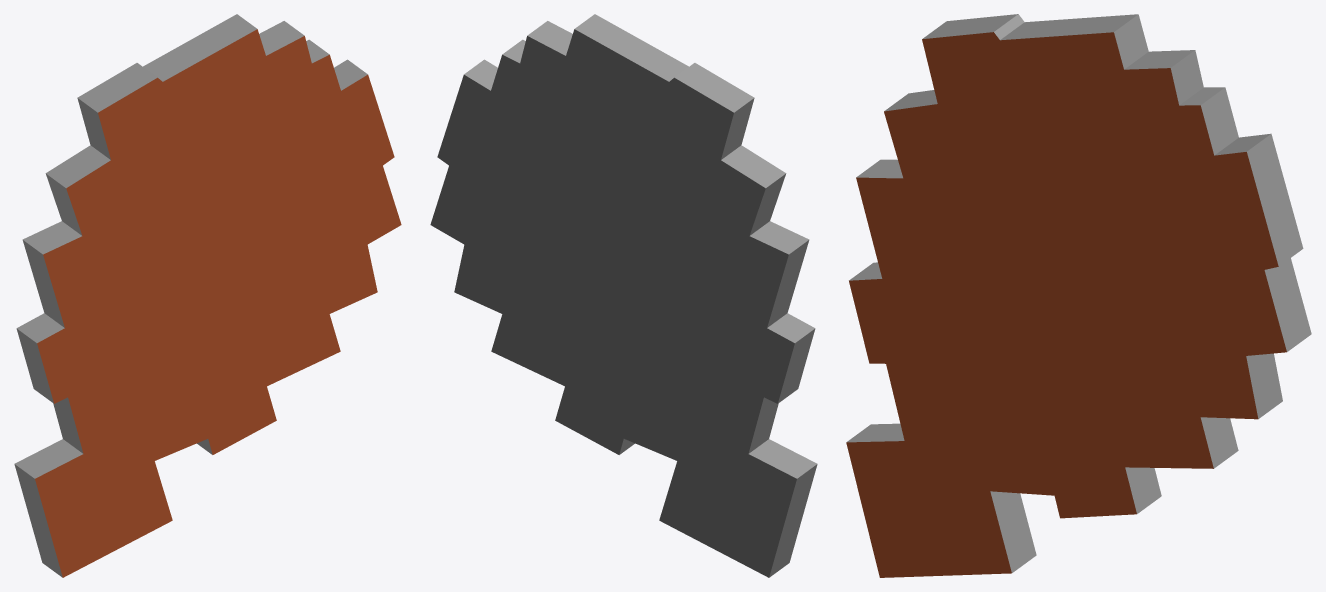
Rendered from construction_3209_assumed_A_Casa_h6m.obj.
The picture shows the model from 3 angles, left to right: view 1: azimuth 30°, elevation 25°; view 2: azimuth 150°, elevation 25°; view 3: azimuth 330°, elevation 25°; orthographic projection. The views are drawn at different scales.
Visible parts, largest first — view 1: construction_3209_assumed_A_Casa; view 2: construction_3209_assumed_A_Casa; view 3: construction_3209_assumed_A_Casa.
Boxes of the visible parts, bbox=[...] form: construction_3209_assumed_A_Casa: bbox=[14, 14, 401, 577]; construction_3209_assumed_A_Casa: bbox=[430, 14, 817, 577]; construction_3209_assumed_A_Casa: bbox=[846, 14, 1311, 577].
Size of the model in its own units: 61.84 by 80.8 by 6.
